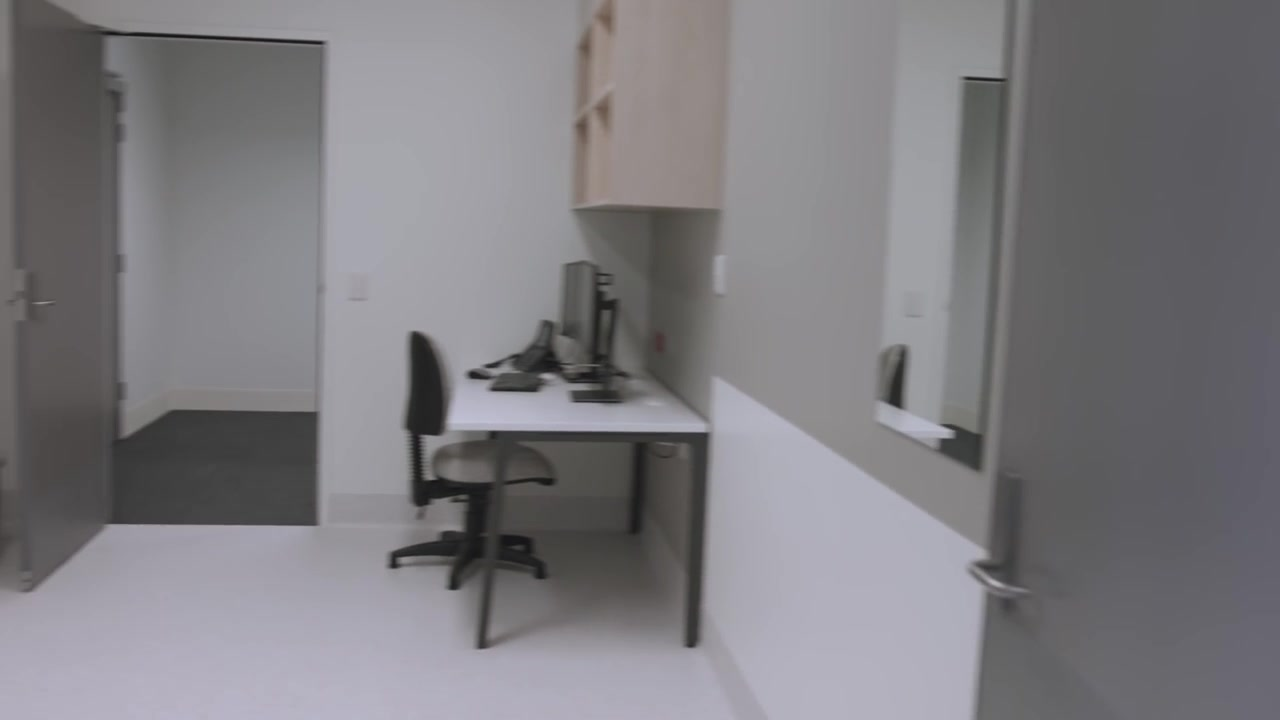cabinet: (574, 2, 725, 214)
chair: (386, 326, 553, 596)
computer: (560, 261, 622, 376)
door_handle: (964, 466, 1038, 619), (18, 265, 61, 324)
keyboard: (490, 373, 539, 394)
mouse: (465, 367, 493, 383)
table: (447, 361, 706, 650)
